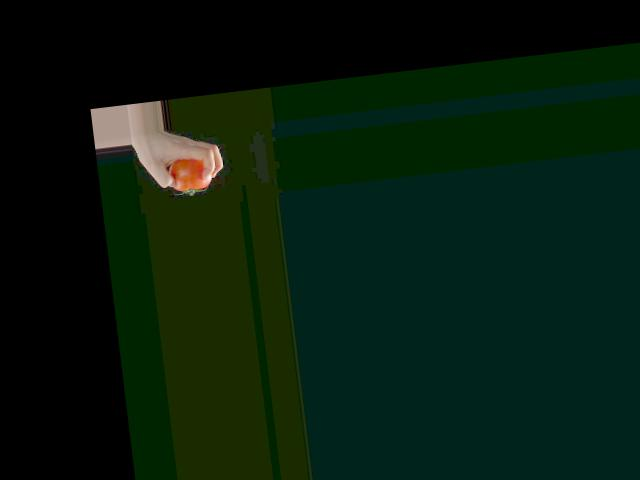tomato: (167, 156, 213, 196)
